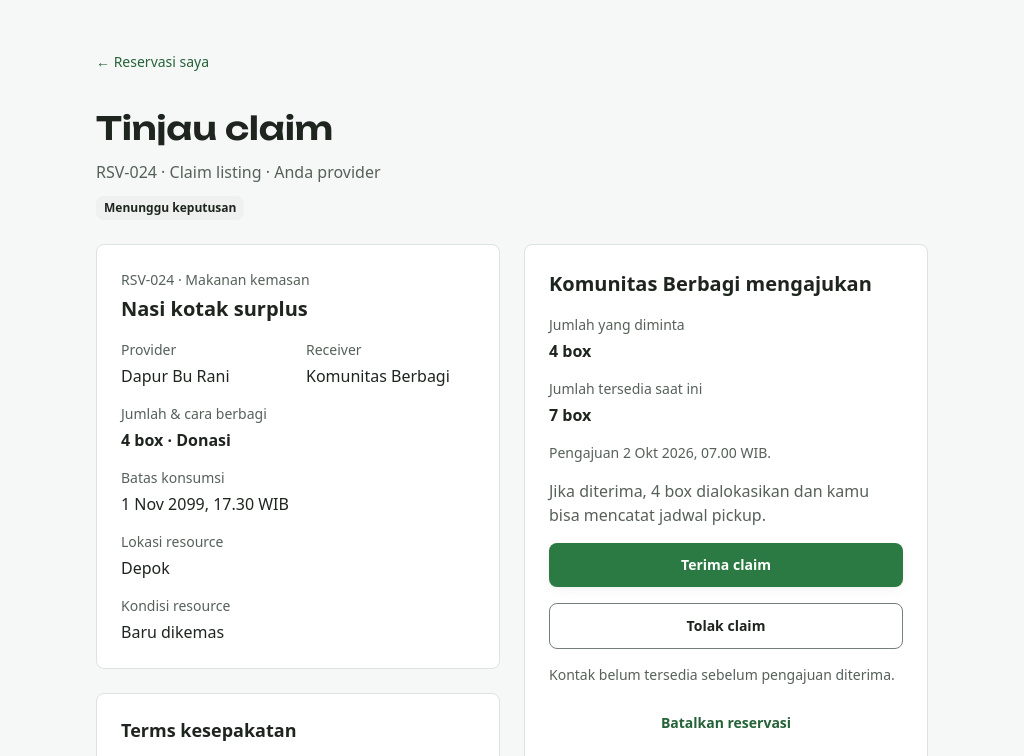
surfaces stale_version on accept and reloads without false success
Click the button "Terima claim" at (726, 565), box [549,543,903,587]
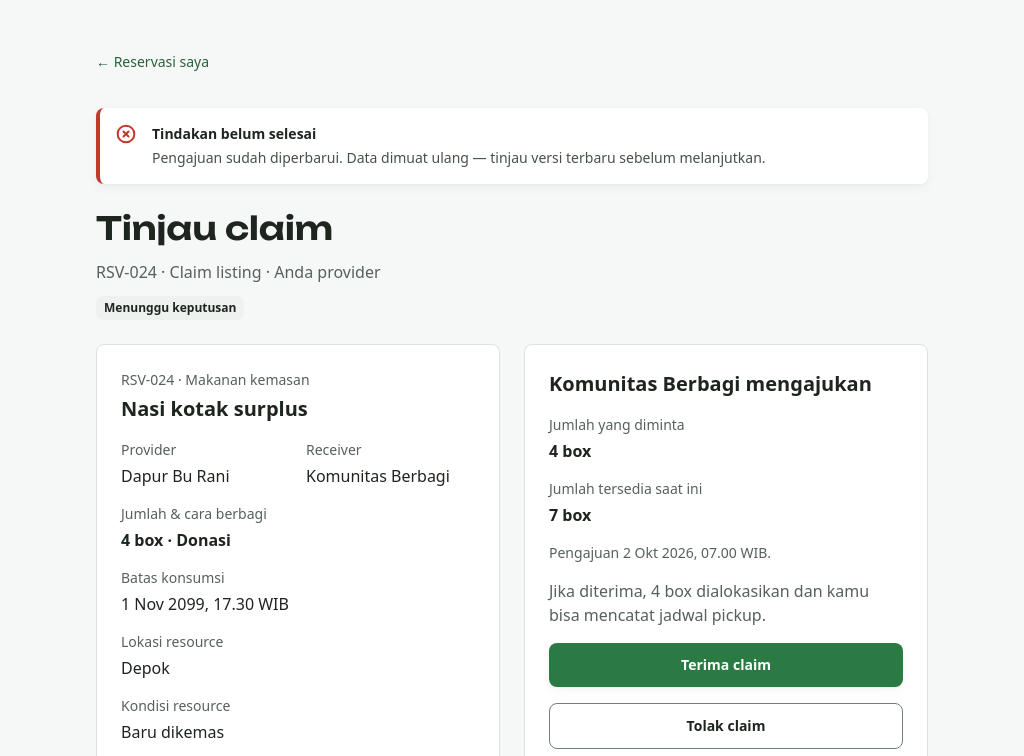
Now the text "Pengajuan sudah diperbarui" is shown, box [152,148,766,167]
